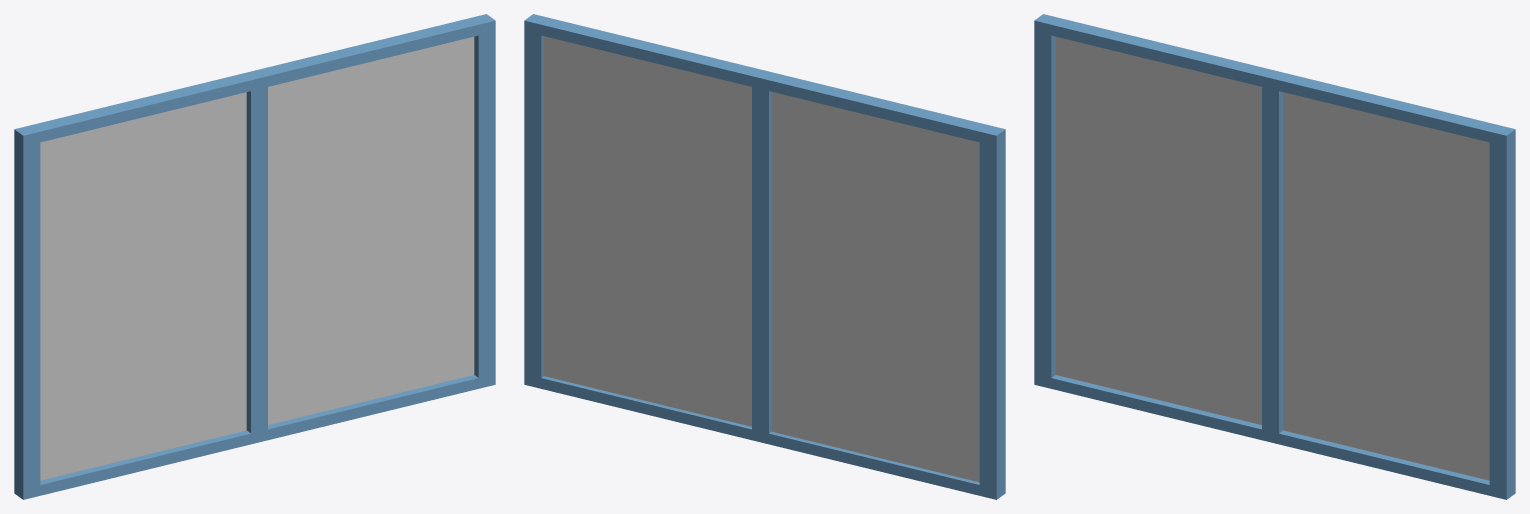
Rendered from G_p_terassentuer1.fbx.
3 renders of one model, left to right at view 1: azimuth 30°, elevation 25°; view 2: azimuth 150°, elevation 25°; view 3: azimuth 330°, elevation 25°, orthographic.
Visible parts, largest first — view 1: Fenster.004; view 2: Fenster.004; view 3: Fenster.004.
Part boxes in pixels (<box>): Fenster.004: <box>14,14,495,499</box>; Fenster.004: <box>524,14,1005,499</box>; Fenster.004: <box>1034,14,1515,499</box>.
Size of the model in its own units: 302 by 223 by 10.
